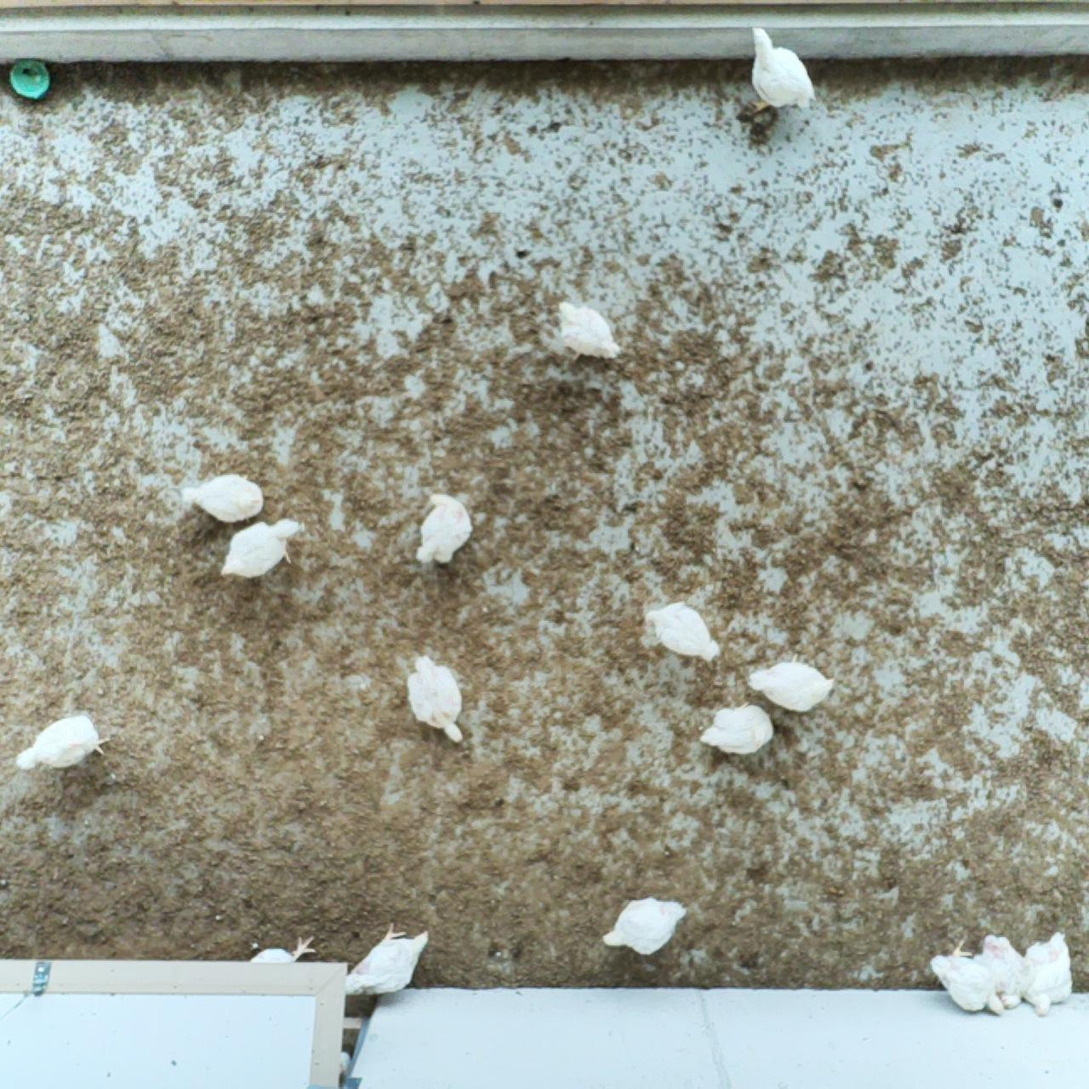chicken: (744, 21, 816, 121), (335, 921, 428, 998), (401, 648, 468, 745), (930, 939, 1006, 1016), (16, 714, 109, 774), (601, 895, 688, 959), (240, 933, 319, 1002), (748, 653, 836, 714), (222, 517, 302, 580), (646, 599, 722, 663), (1019, 931, 1073, 1018), (413, 491, 474, 568), (973, 933, 1031, 1012), (182, 470, 264, 524), (701, 698, 773, 758), (557, 297, 619, 363)
